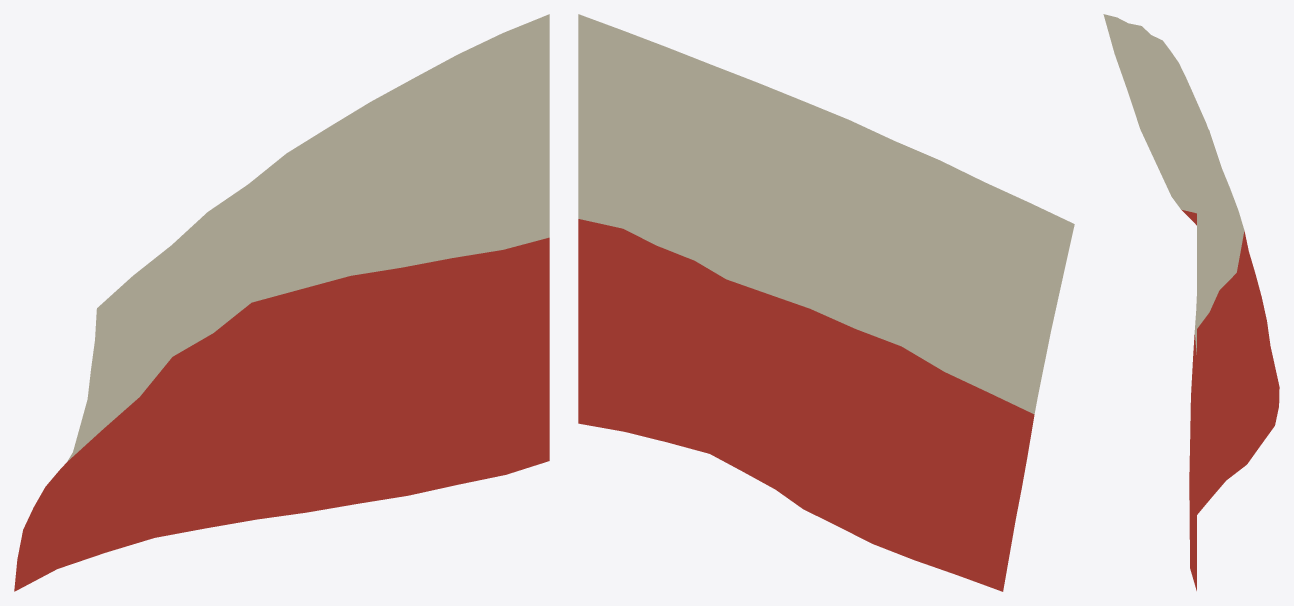
File: flag.glb
3 renders of one model, left to right at view 1: azimuth 30°, elevation 25°; view 2: azimuth 150°, elevation 25°; view 3: azimuth 270°, elevation 25°, orthographic. The views are drawn at different scales.
Visible parts, largest first — view 1: Plane.028; view 2: Plane.028; view 3: Plane.028.
Boxes of the visible parts, left/top/right/bottom form: Plane.028: left=14, top=14, right=549, bottom=591; Plane.028: left=578, top=14, right=1074, bottom=591; Plane.028: left=1103, top=14, right=1279, bottom=590.
Size of the model in its own units: 1.25 by 1.15 by 0.361.
